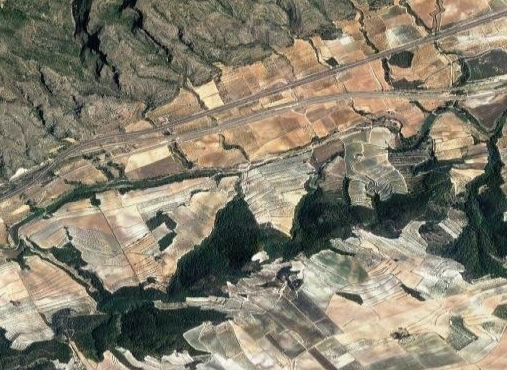motorway: (69, 113, 205, 159), (204, 77, 312, 132), (1, 153, 73, 208), (309, 45, 410, 83), (409, 11, 507, 46), (424, 73, 507, 103), (311, 88, 424, 105)
